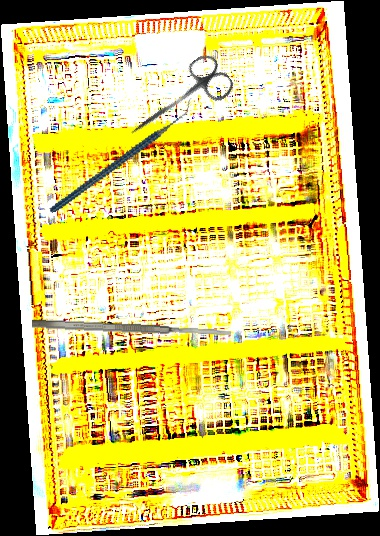Chopper: (30, 97, 213, 214)
Iris Scissors: (118, 49, 238, 155)
Spatula Surgical: (31, 317, 232, 340)
